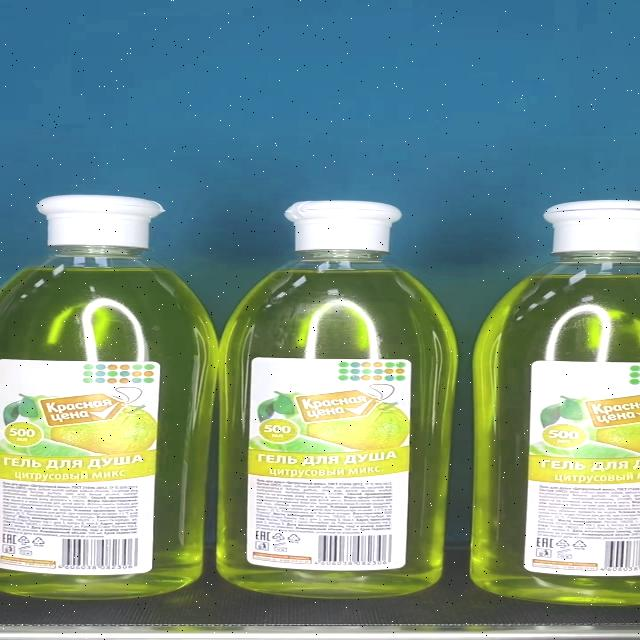Bottle: (217, 201, 459, 598), (0, 195, 219, 601)
Cap: (36, 196, 164, 248), (283, 202, 402, 252)
